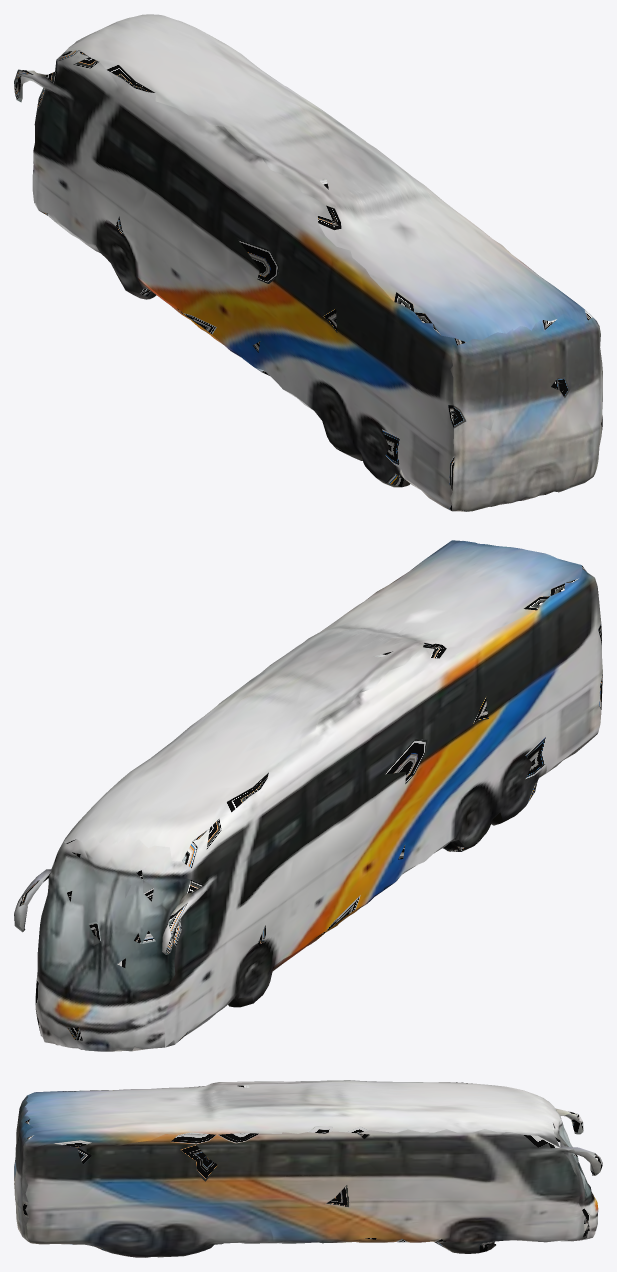
Rendered from onibus.glb.
3 renders of one model, top to bottom at view 1: azimuth 30°, elevation 25°; view 2: azimuth 150°, elevation 25°; view 3: azimuth 270°, elevation 25°, orthographic. The views are drawn at different scales.
Visible parts, largest first — view 1: corpo; view 2: corpo; view 3: corpo.
Boxes of the visible parts, box(x1,y1,x2,y2) form: corpo: box(14, 14, 602, 511); corpo: box(14, 540, 602, 1051); corpo: box(14, 1080, 602, 1257).
Size of the model in its own units: 2.6 by 3.6 by 13.
1 material, 1 textured.
